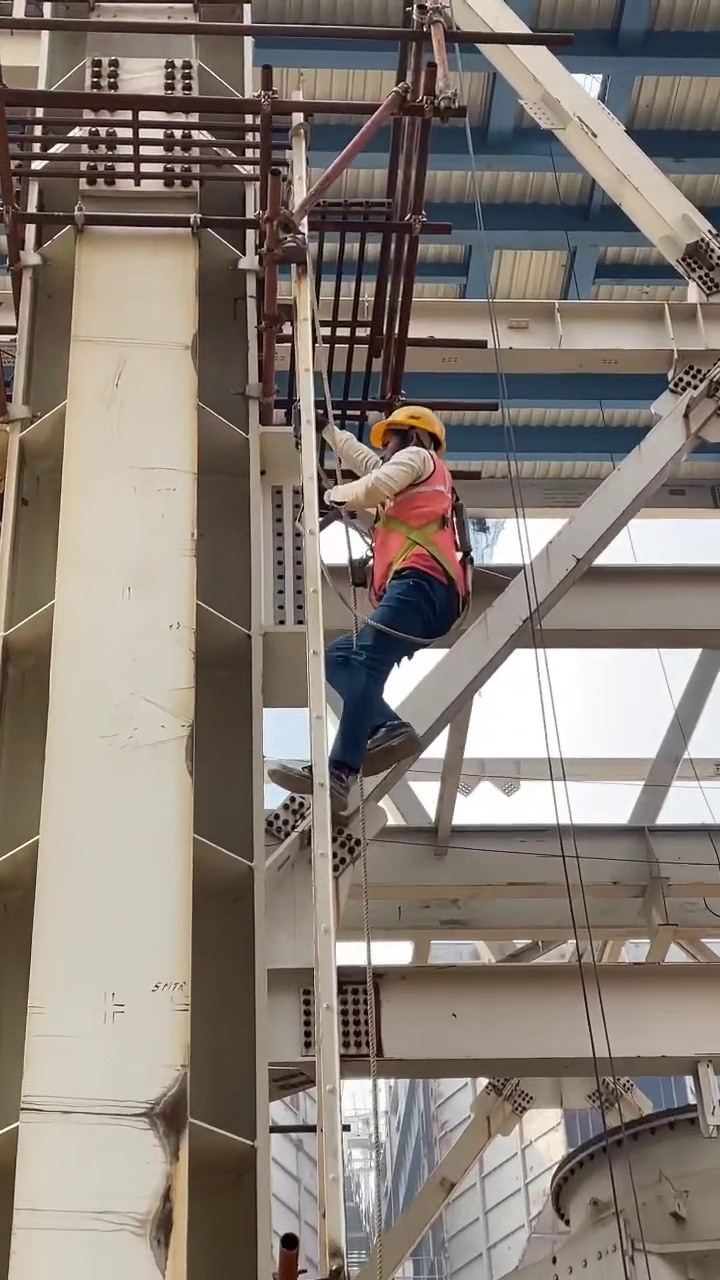Helmet: (373, 407, 450, 449)
Person: (267, 407, 470, 812)
Safety_Harness: (339, 453, 472, 645)
Safety_shoes: (269, 761, 349, 809), (356, 721, 421, 775)
